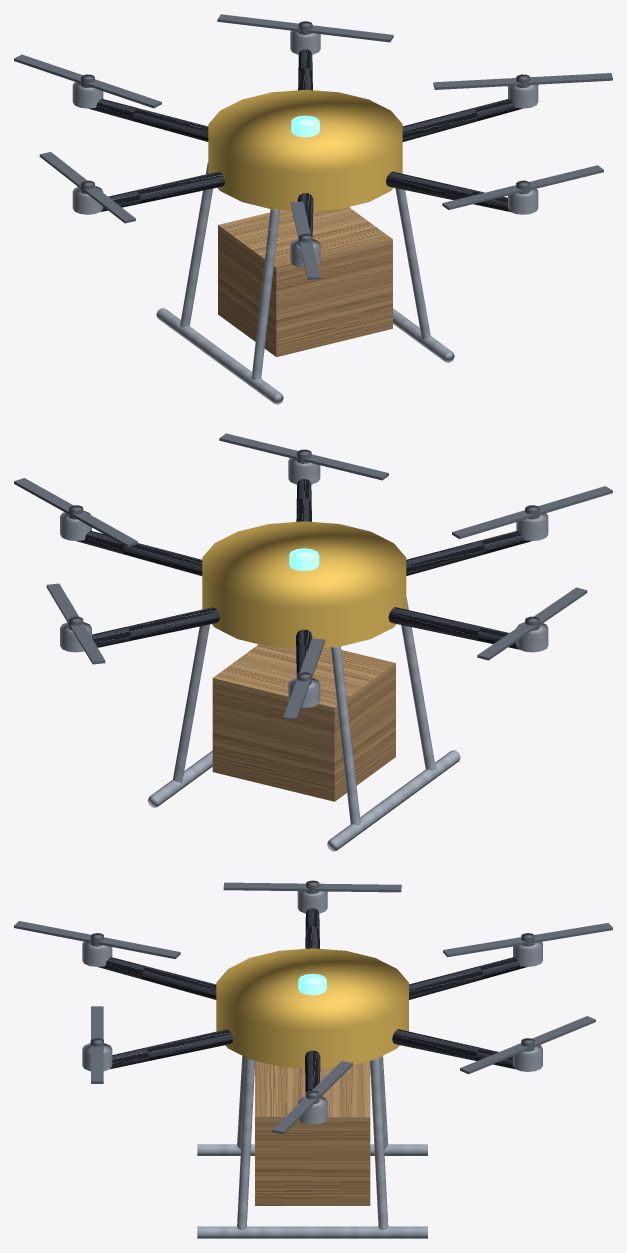
File: drone_delivery_hex.glb
The picture shows the model from 3 angles, top to bottom: view 1: azimuth 30°, elevation 25°; view 2: azimuth 150°, elevation 25°; view 3: azimuth 270°, elevation 25°; orthographic projection. The views are drawn at different scales.
Parts seen in each view (by area): view 1: cargo_parcel, primary_color, motors_skids, carbon_arms, rotor_1, rotor_2, rotor_0, rotor_3, rotor_4, rotor_5, nav_led; view 2: cargo_parcel, primary_color, motors_skids, carbon_arms, rotor_0, rotor_5, rotor_1, rotor_4, rotor_2, rotor_3, nav_led; view 3: primary_color, cargo_parcel, motors_skids, carbon_arms, rotor_4, rotor_3, rotor_5, rotor_2, rotor_1, rotor_0, nav_led.
Part boxes in pixels (bbox=[...]): cargo_parcel: bbox=[218, 207, 392, 356]; primary_color: bbox=[208, 89, 402, 211]; motors_skids: bbox=[72, 30, 538, 404]; carbon_arms: bbox=[89, 49, 522, 236]; rotor_1: bbox=[433, 73, 612, 89]; rotor_2: bbox=[217, 14, 393, 42]; rotor_0: bbox=[442, 165, 603, 209]; rotor_3: bbox=[14, 54, 161, 108]; rotor_4: bbox=[39, 152, 135, 223]; rotor_5: bbox=[290, 201, 320, 279]; nav_led: bbox=[291, 115, 319, 137]; cargo_parcel: bbox=[212, 644, 395, 801]; primary_color: bbox=[202, 521, 406, 648]; motors_skids: bbox=[60, 458, 548, 851]; carbon_arms: bbox=[76, 479, 531, 675]; rotor_0: bbox=[219, 433, 388, 480]; rotor_5: bbox=[452, 486, 612, 538]; rotor_1: bbox=[14, 478, 137, 547]; rotor_4: bbox=[477, 587, 587, 660]; rotor_2: bbox=[46, 583, 105, 664]; rotor_3: bbox=[283, 638, 324, 720]; nav_led: bbox=[289, 548, 319, 571]; primary_color: bbox=[216, 948, 408, 1068]; cargo_parcel: bbox=[255, 1061, 370, 1205]; motors_skids: bbox=[82, 891, 542, 1238]; carbon_arms: bbox=[98, 908, 526, 1095]; rotor_4: bbox=[223, 880, 401, 893]; rotor_3: bbox=[443, 923, 612, 957]; rotor_5: bbox=[14, 921, 180, 959]; rotor_2: bbox=[460, 1016, 595, 1074]; rotor_1: bbox=[272, 1061, 352, 1134]; rotor_0: bbox=[90, 1006, 103, 1083]; nav_led: bbox=[298, 973, 326, 995].
Size of the model in its own units: 1.34 by 0.54 by 1.35.
6 materials, 3 textured.
